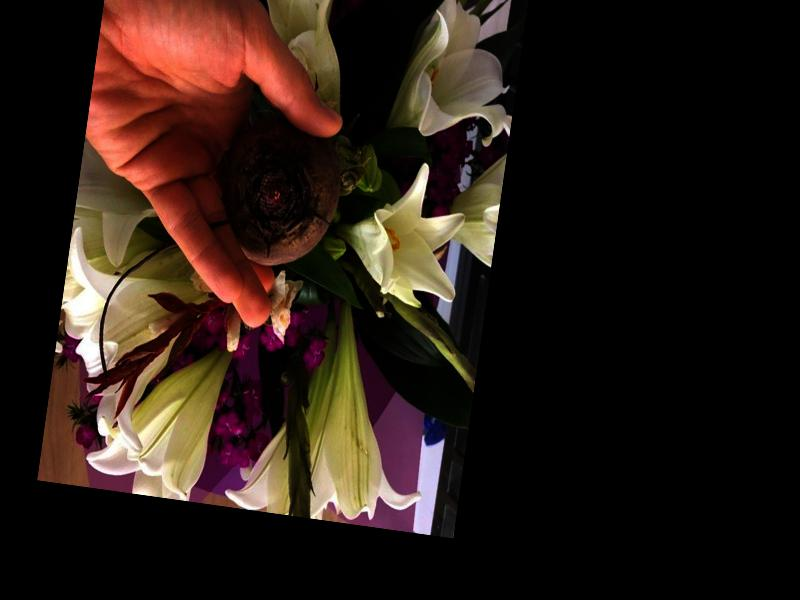Beet: (208, 110, 349, 276)
